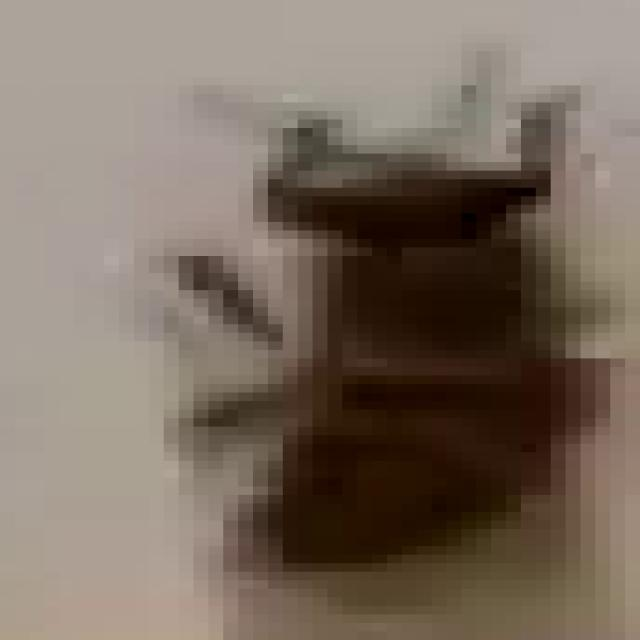honeybee: (197, 75, 640, 567)
